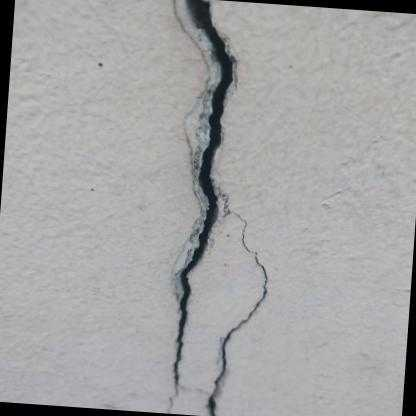crack: (172, 0, 237, 383), (205, 211, 271, 416)
